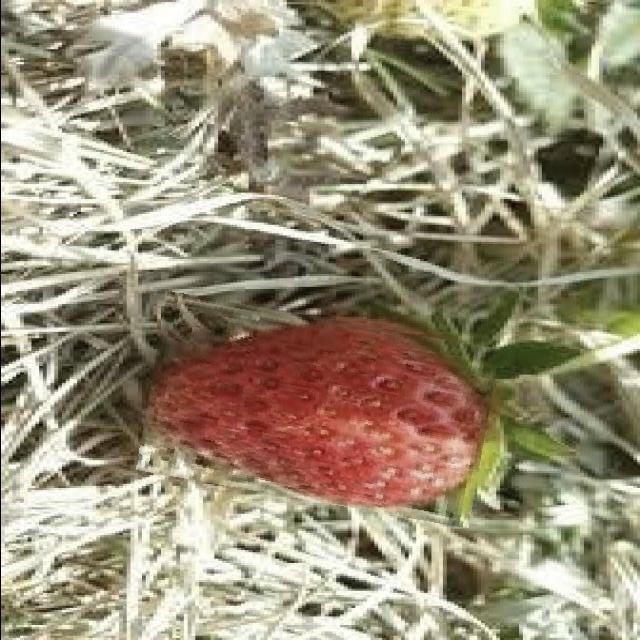strawberry: (141, 304, 493, 514)
